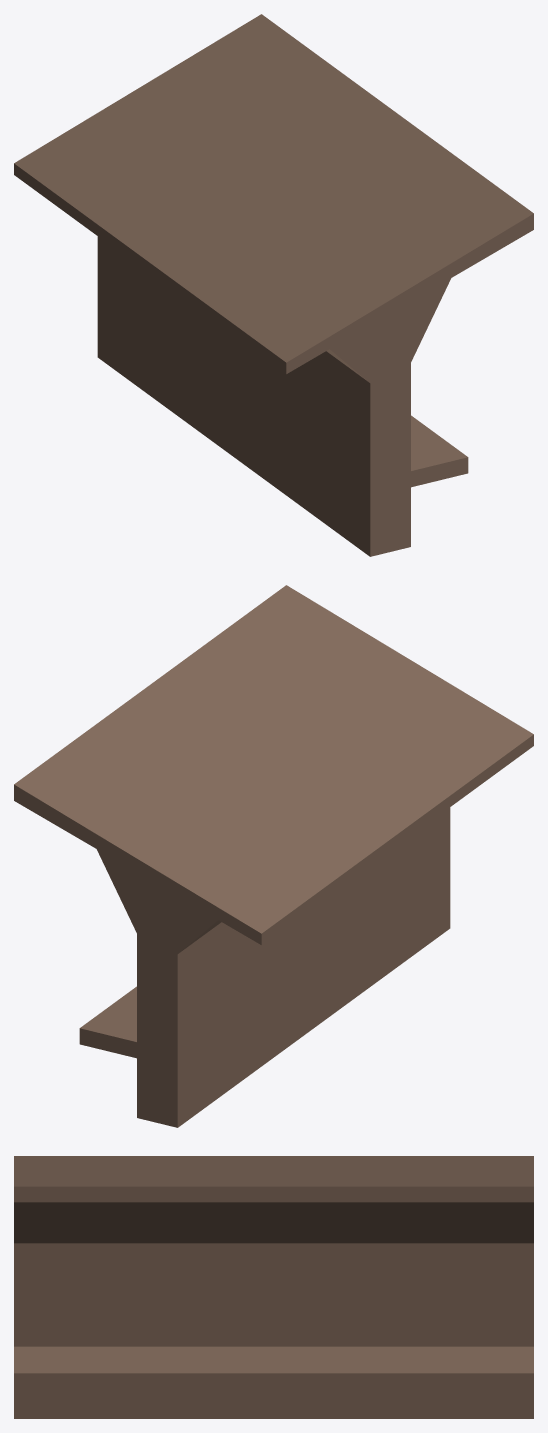
The model's file is PropsOstanovka.fbx.
The picture shows the model from 3 angles, top to bottom: view 1: azimuth 30°, elevation 25°; view 2: azimuth 150°, elevation 25°; view 3: azimuth 270°, elevation 25°; orthographic projection. The views are drawn at different scales.
Parts seen in each view (by area): view 1: Cube.048; view 2: Cube.048; view 3: Cube.048.
Part boxes in pixels (x1,y1,x2,y2): Cube.048: (14, 14, 533, 556); Cube.048: (14, 585, 533, 1127); Cube.048: (14, 1156, 533, 1418).
Bounding box in the file's own units: 32.38 × 37.93 × 61.7.
